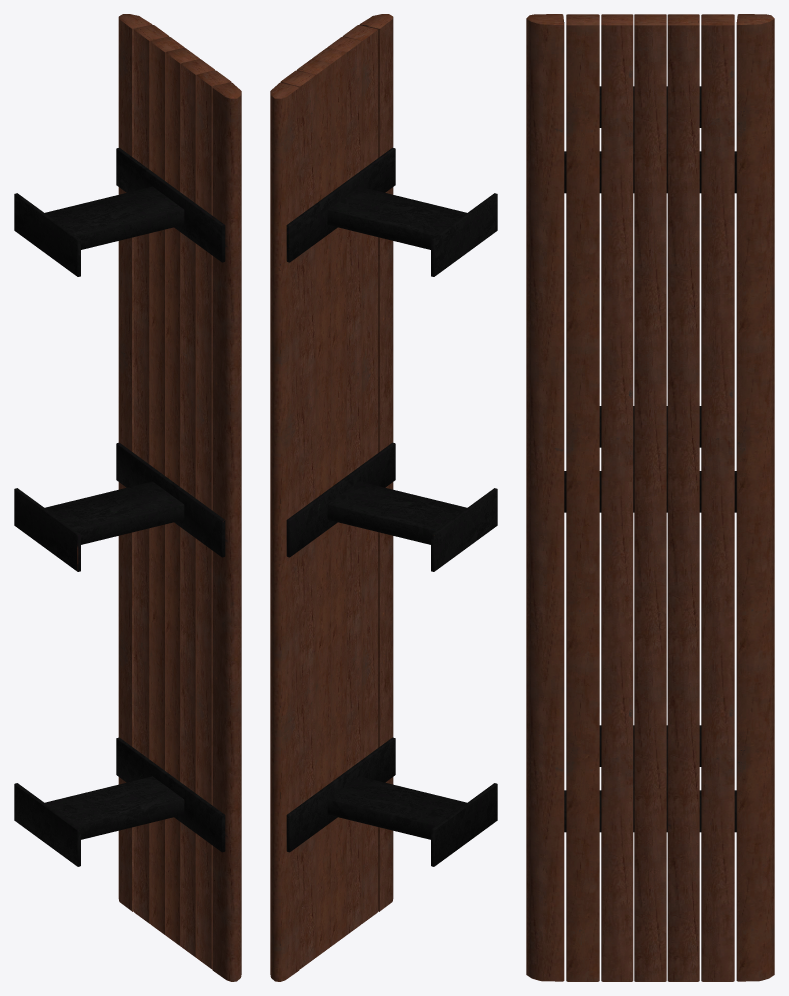
Rendered from cP_Bench13.dae.
3 views of the same model, side by side, from view 1: azimuth 30°, elevation 25°; view 2: azimuth 150°, elevation 25°; view 3: azimuth 270°, elevation 25° (orthographic). The views are drawn at different scales.
Visible parts, largest first — view 1: cP_Bench13.001; view 2: cP_Bench13.001; view 3: cP_Bench13.001.
Part boxes in pixels (<box>): cP_Bench13.001: <box>14,14,241,981</box>; cP_Bench13.001: <box>270,14,497,981</box>; cP_Bench13.001: <box>526,14,774,981</box>.
Size of the model in its own units: 0.5219 by 0.7048 by 3.
